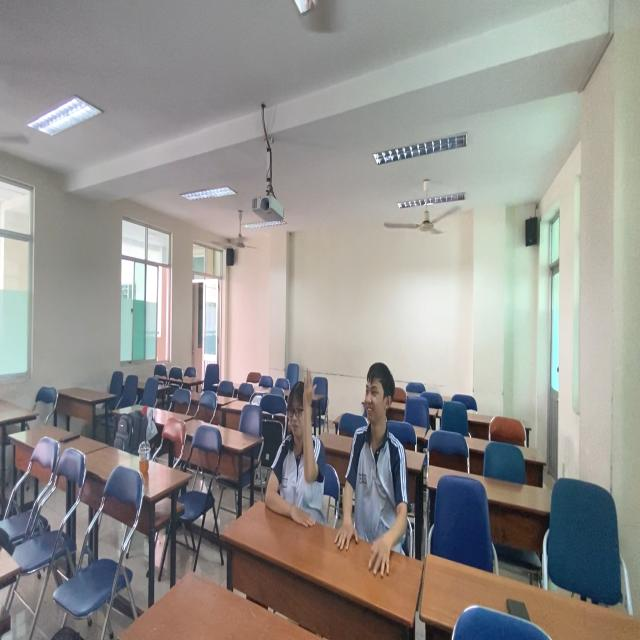raise_hand: (263, 365, 322, 531)
